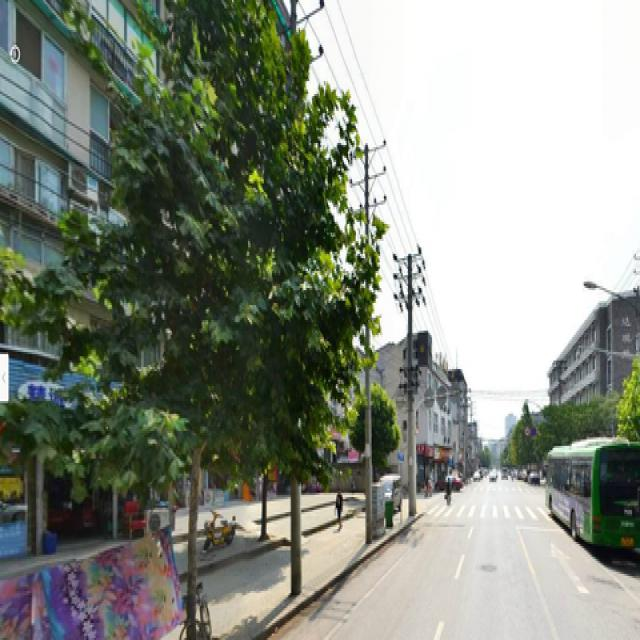meta: (118, 32, 326, 638)
